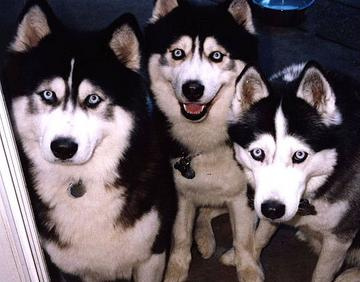dog: (0, 1, 179, 281), (139, 1, 268, 281), (224, 63, 359, 281)
